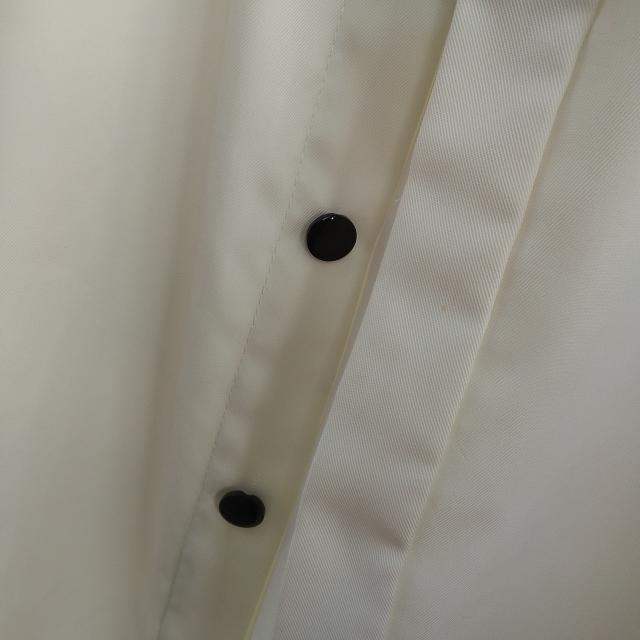education_male_uniform: (76, 43, 640, 640)
